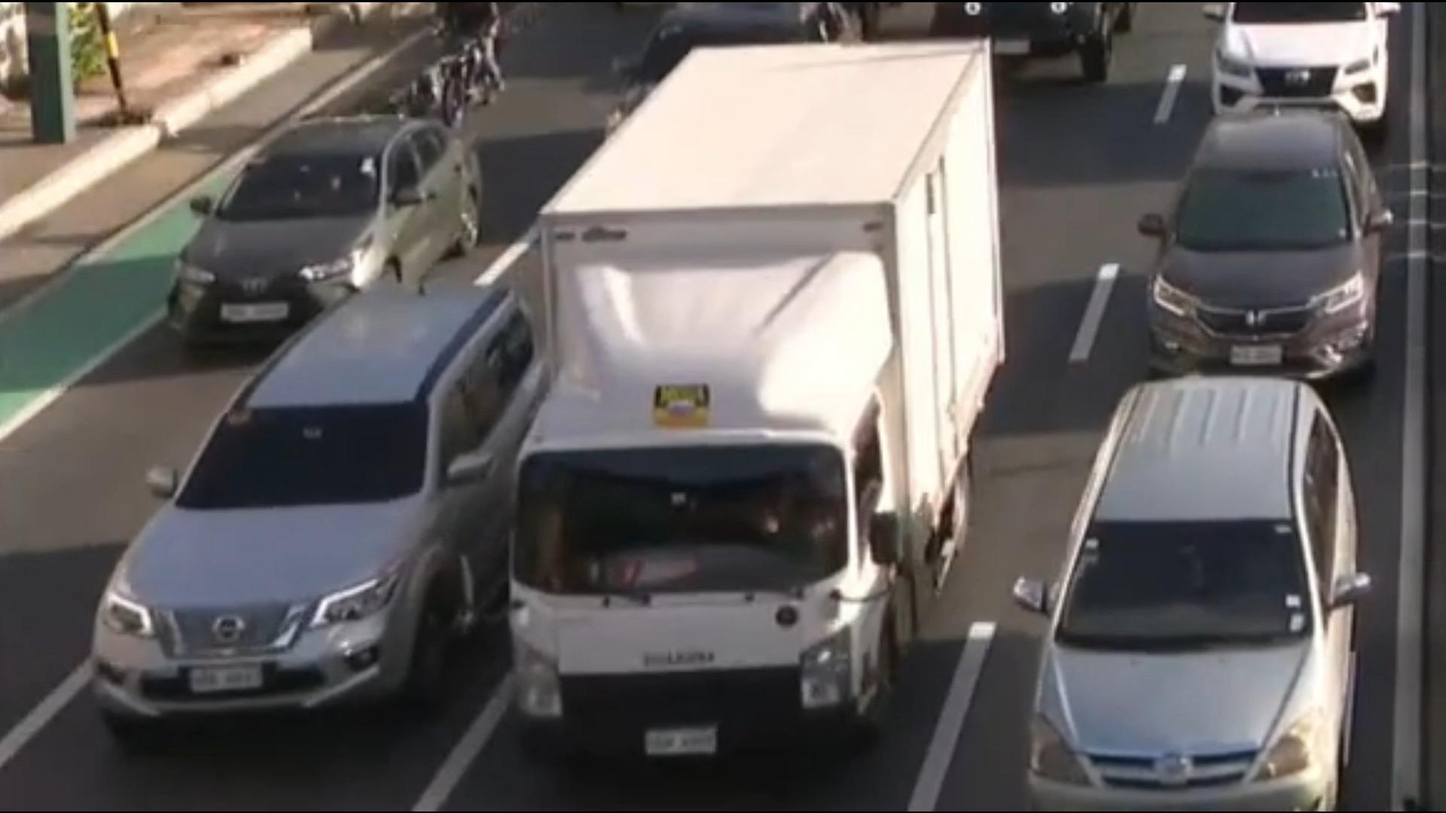Motorcycle: (427, 2, 512, 126)
SUV: (90, 288, 541, 738), (1017, 380, 1373, 813), (1139, 99, 1393, 383), (1197, 0, 1403, 127)
Sedan: (166, 116, 487, 353)
Truck: (505, 35, 1010, 781)
